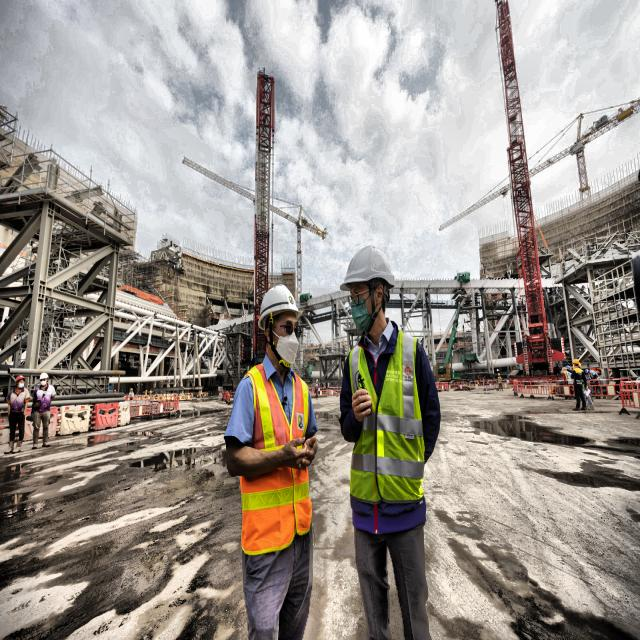safety_helmet: (339, 244, 398, 340), (255, 282, 305, 373)
safety_jacket: (351, 329, 426, 538), (238, 361, 316, 560)
